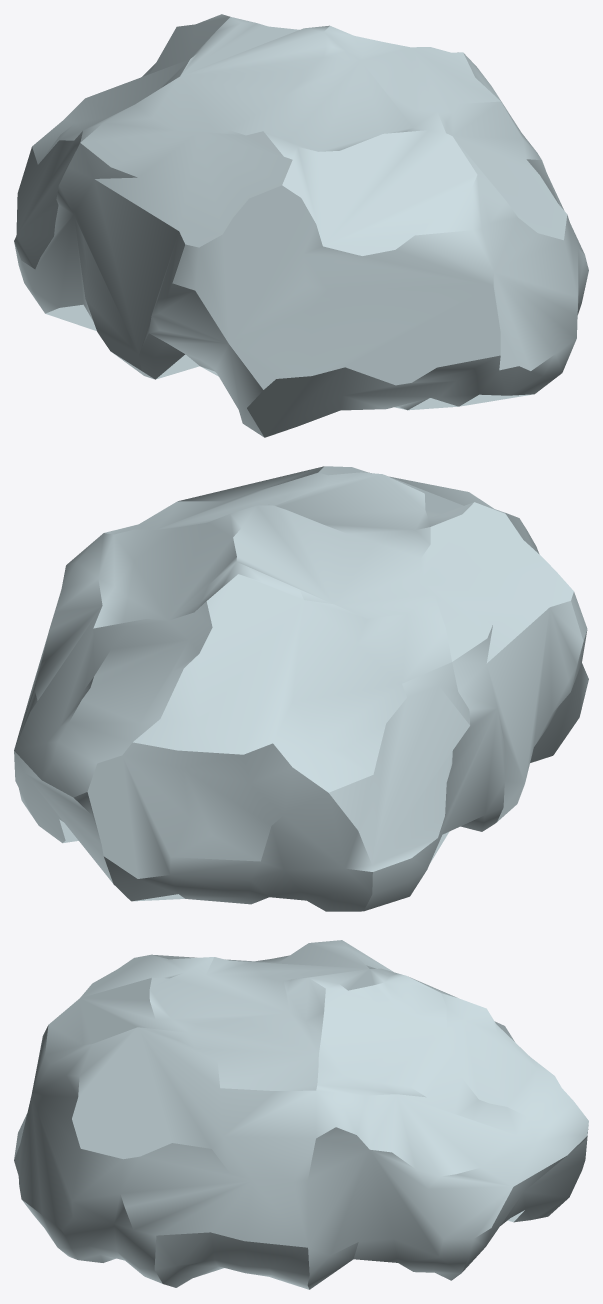
Rendered from Rock_02.fbx.
3 views of the same model, one above another, from view 1: azimuth 30°, elevation 25°; view 2: azimuth 150°, elevation 25°; view 3: azimuth 270°, elevation 25° (orthographic). The views are drawn at different scales.
Parts seen in each view (by area): view 1: Rock_02; view 2: Rock_02; view 3: Rock_02.
Part boxes in pixels (x1,y1,x2,y2): Rock_02: [14, 14, 588, 437]; Rock_02: [14, 466, 588, 911]; Rock_02: [14, 940, 588, 1289].
Size of the model in its own units: 875 by 564 by 1133.
